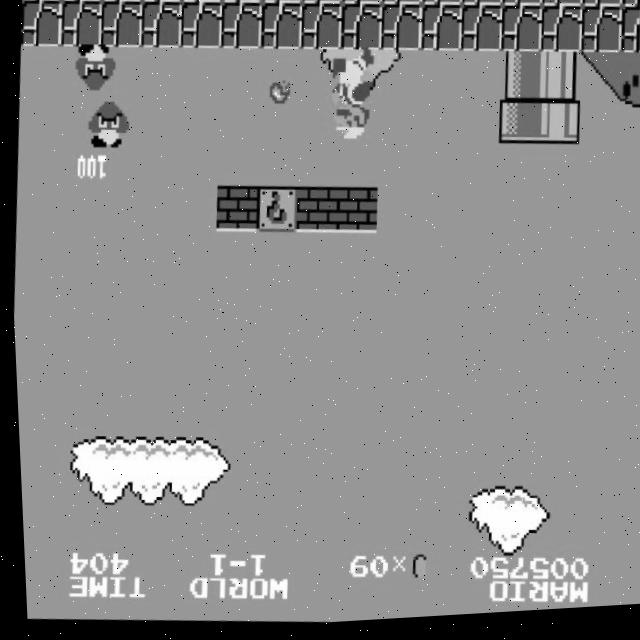1- brick_block: (211, 185, 257, 236), (332, 188, 377, 239), (292, 188, 337, 239)
13- mystery_block: (251, 187, 297, 238)
14- pipe: (536, 56, 582, 107), (496, 55, 542, 106)
15- pipe_head: (534, 102, 580, 153), (495, 101, 541, 152)
17- undestructible_block: (258, 3, 304, 55), (578, 11, 624, 62), (538, 10, 584, 61), (458, 8, 504, 59), (418, 7, 464, 58), (378, 6, 424, 57), (338, 5, 384, 56), (218, 2, 264, 53), (178, 2, 224, 53), (138, 1, 184, 52), (58, 0, 104, 50), (498, 9, 543, 60), (298, 5, 343, 56), (98, 0, 143, 51), (19, 0, 64, 50), (619, 13, 640, 63), (580, 0, 624, 17), (540, 0, 584, 15), (500, 0, 544, 15), (460, 0, 504, 14), (420, 0, 464, 12), (380, 0, 424, 12), (340, 0, 384, 11), (300, 0, 344, 10), (260, 0, 304, 9), (220, 0, 264, 8), (621, 0, 640, 17), (180, 0, 224, 7), (140, 0, 183, 5), (100, 0, 143, 5), (60, 0, 103, 4)
4- fire_mario: (326, 48, 379, 147)
5- fireball: (267, 82, 290, 110)
8- goomba: (72, 42, 119, 96)
